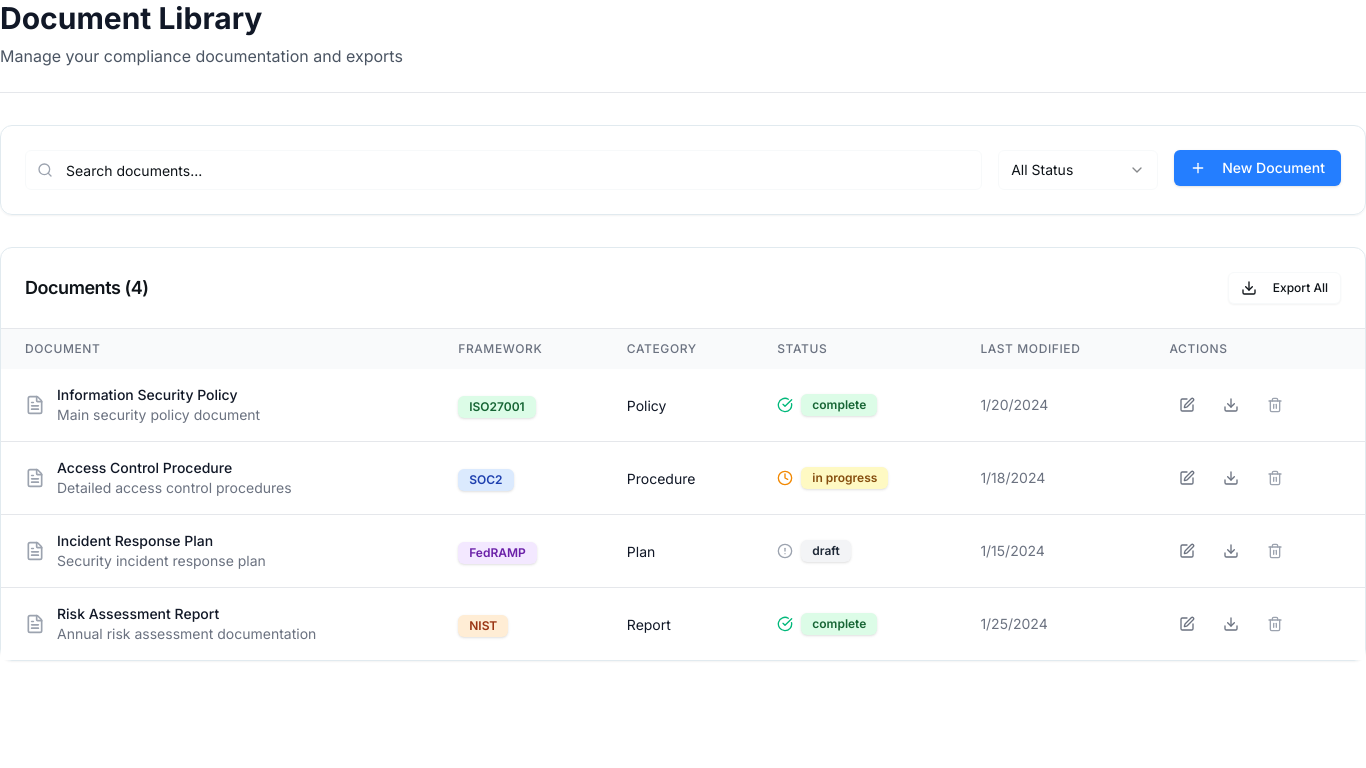
Test case: Documents Page › New Document Dialog › should open new document dialog when button is clicked
This screenshot has width=1366, height=768.
Click the button with test id "button-new-document". click: (1258, 168)
box: [1174,150,1341,186]
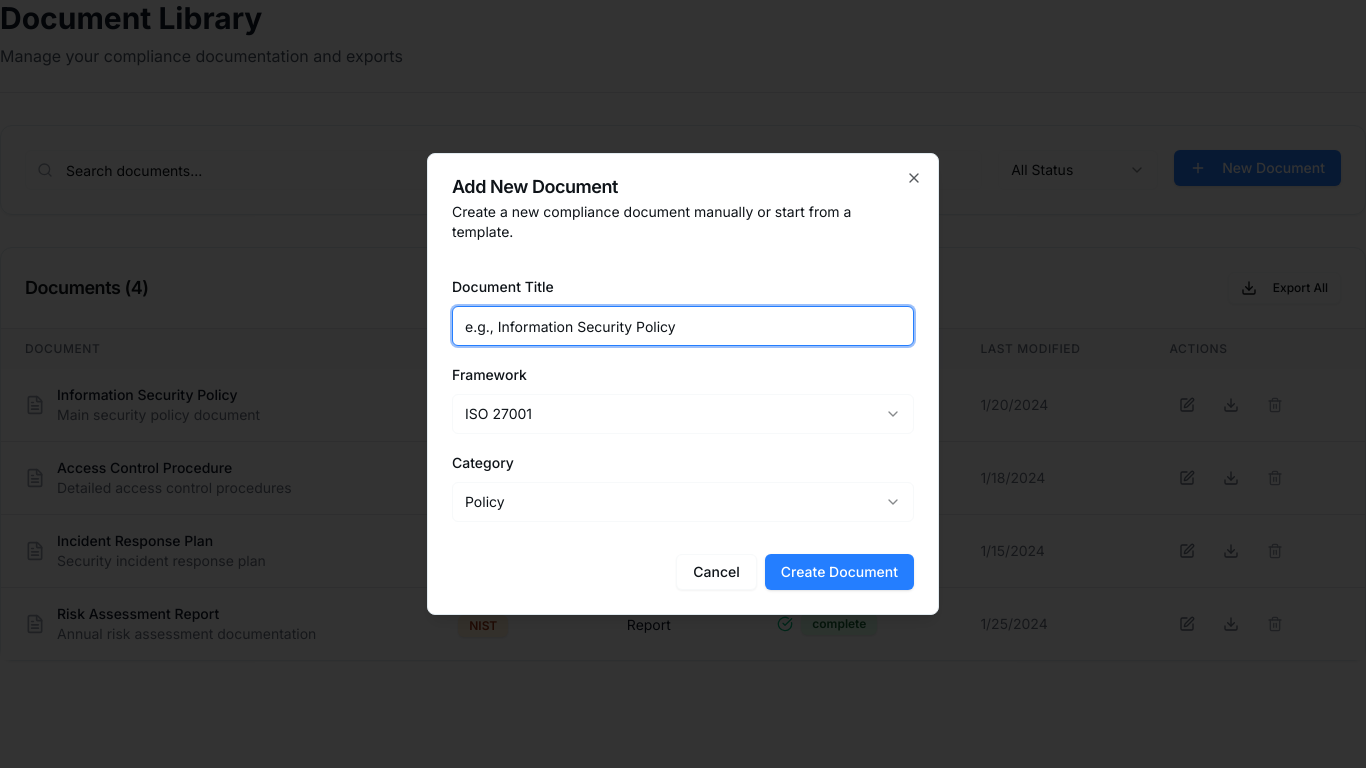
Now the heading "Add New Document" is shown, box [452,176,618,197]
Now the text "Create a new compliance document manually or start from a template." is shown, box [452,202,914,242]
